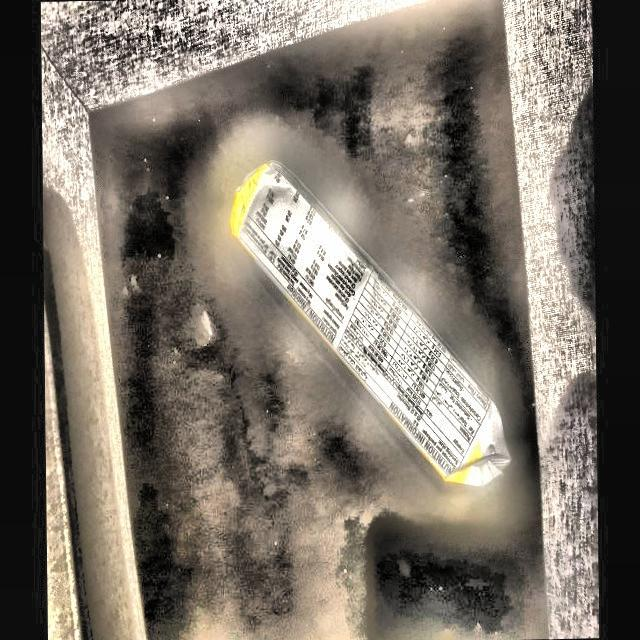lemon puff: (218, 162, 512, 491)
